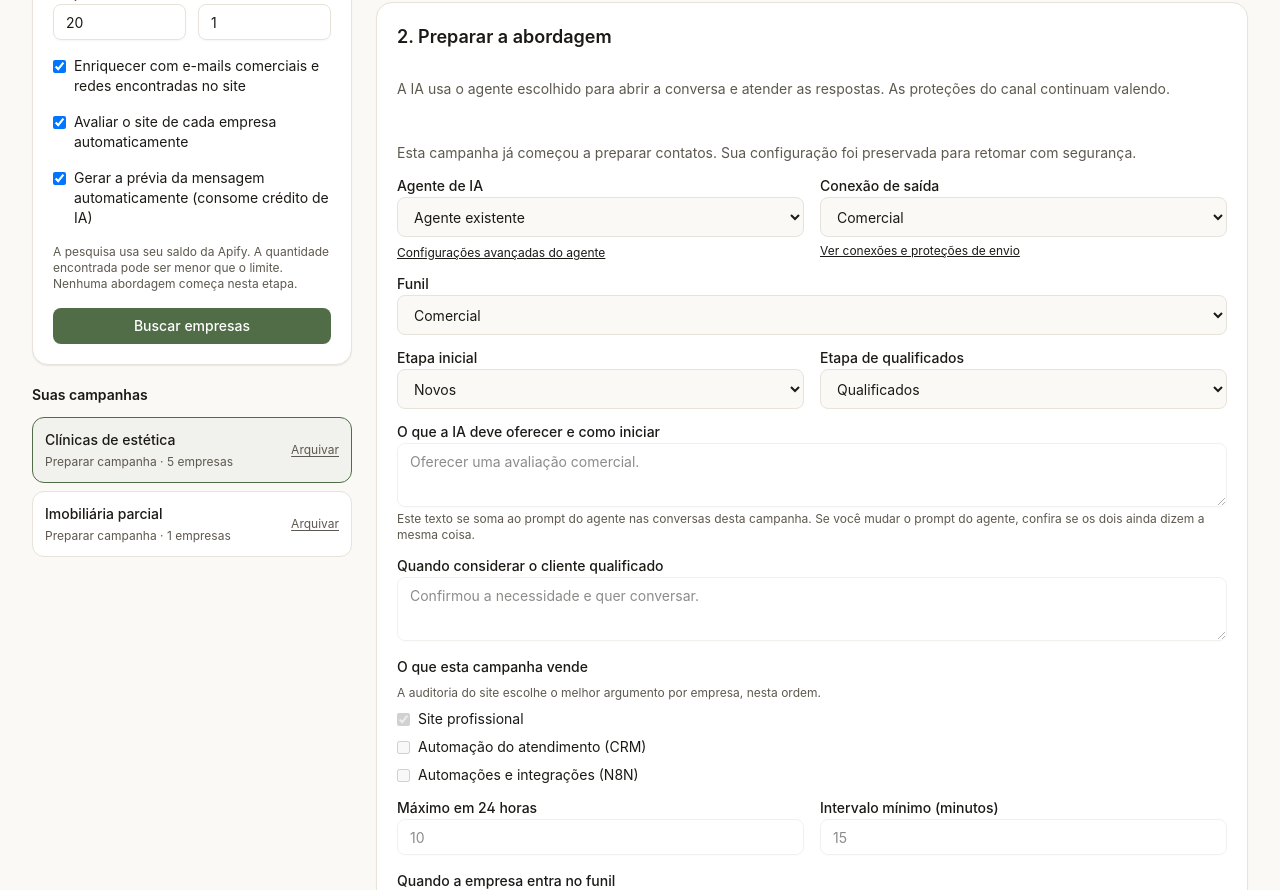
Test: baixar a lista da campanha (issue #4360) › os números do menu são os do servidor, não um filtro dos candidatos da tela
(page scrolled)
Click the button "Clínicas de estética Preparar campanha · 5 empresas": {"x": 152, "y": 450} [33,418,271,482]
(page scrolled)
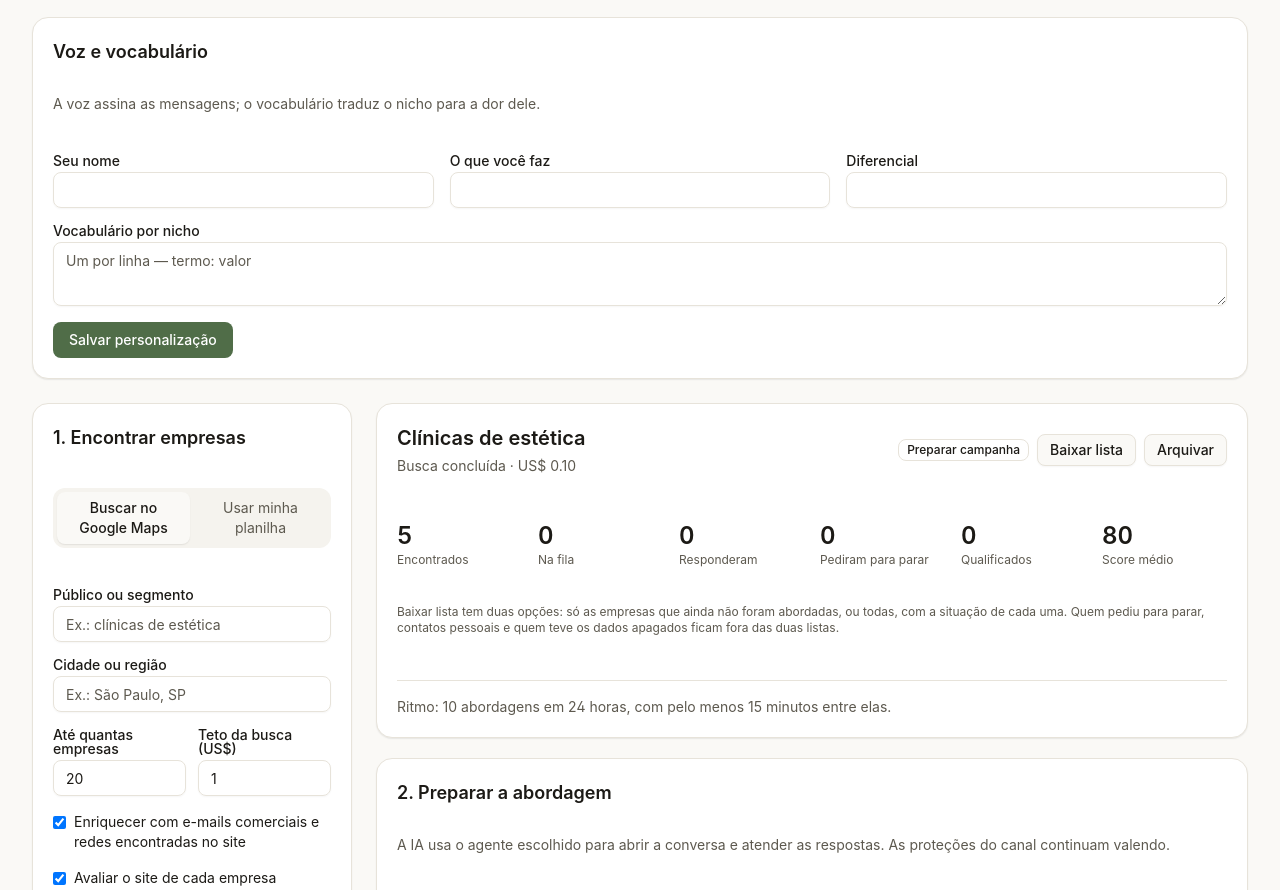
Click the button with test id "baixar-lista": {"x": 1086, "y": 450} [1037,434,1136,466]
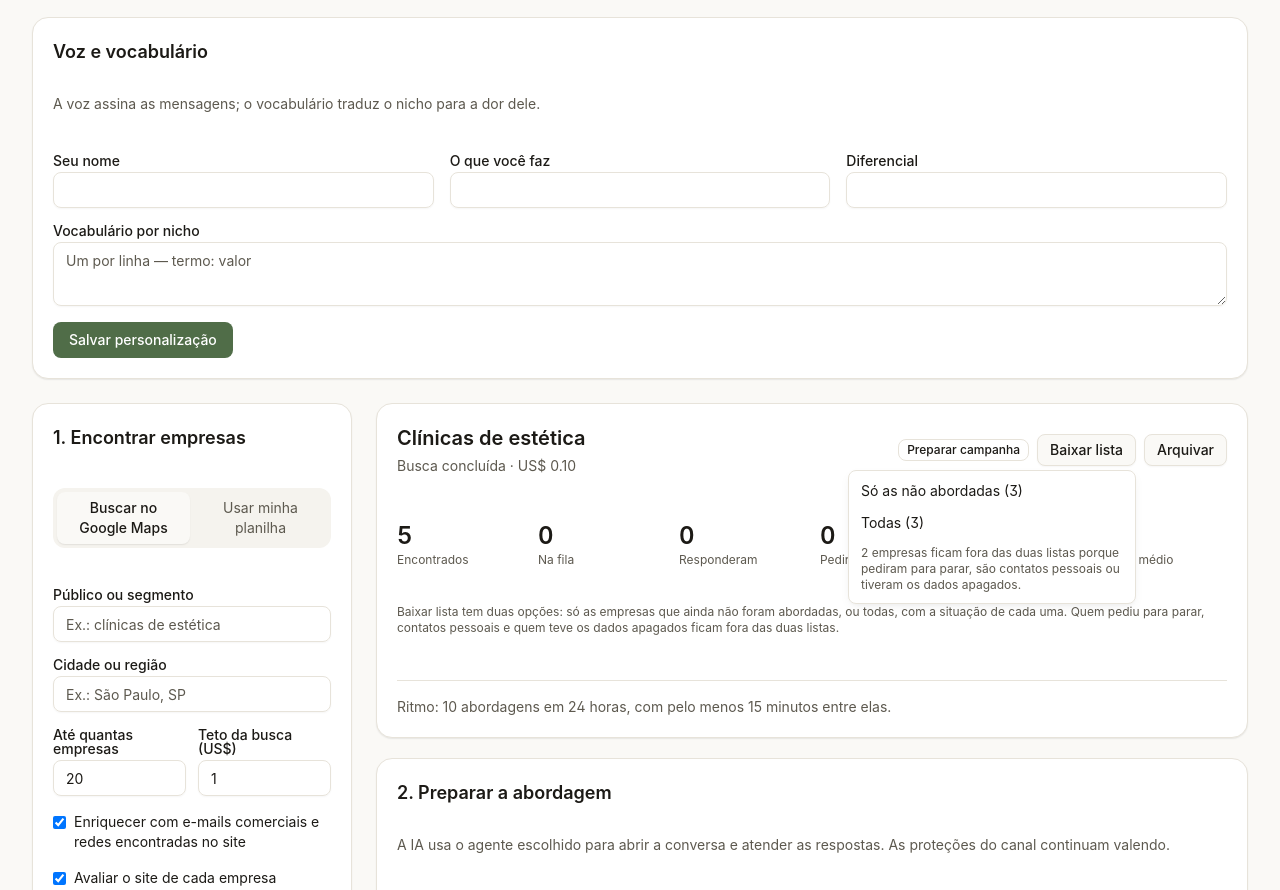
Check: the menu item "Todas (3)" is shown, box [861,514,924,531]
Check: the text with test id "baixar-lista-fora" shows "2 empresas ficam fora das duas listas porque pediram para parar, são contatos pessoais ou tiveram os dados apagados.", box [861,545,1120,592]
